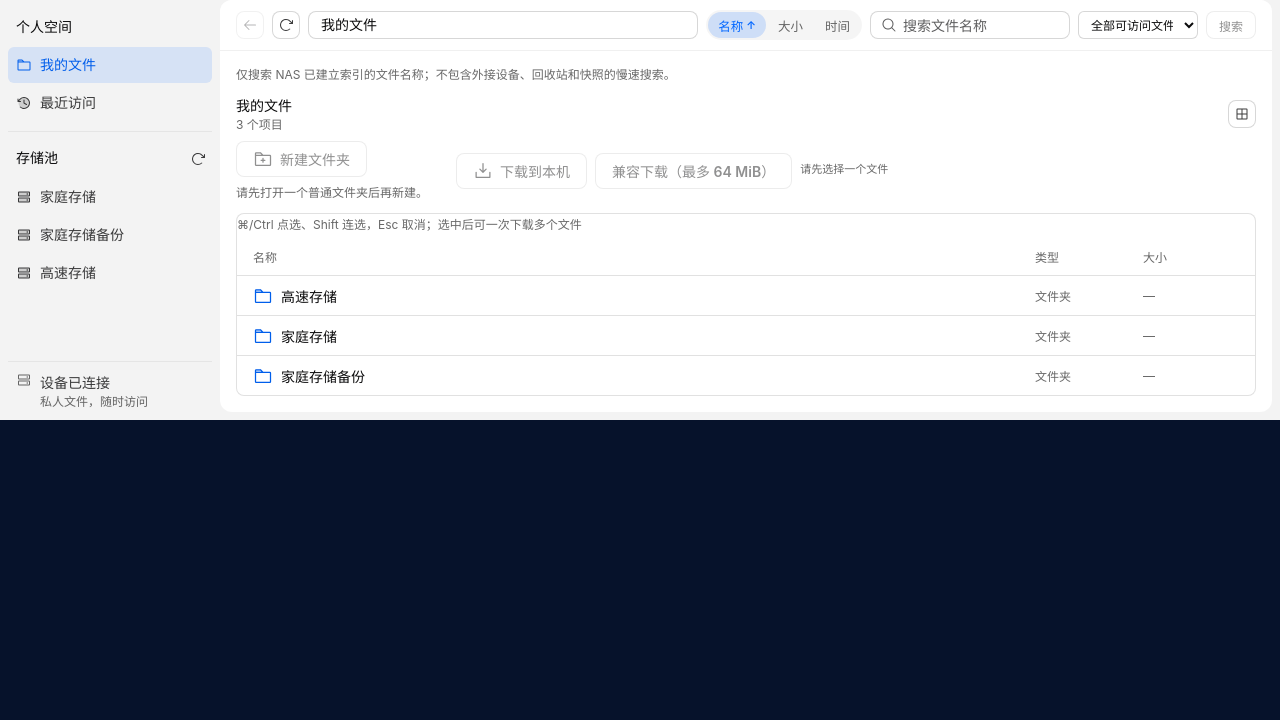
Scenario: switches to the exact returned same-prefix pool path and resets search, page, selection and breadcrumbs
The width and height of the screenshot is (1280, 720).
Click the button with aria-label "打开存储池：家庭存储" at coordinates (110, 197), box [8, 179, 212, 215]
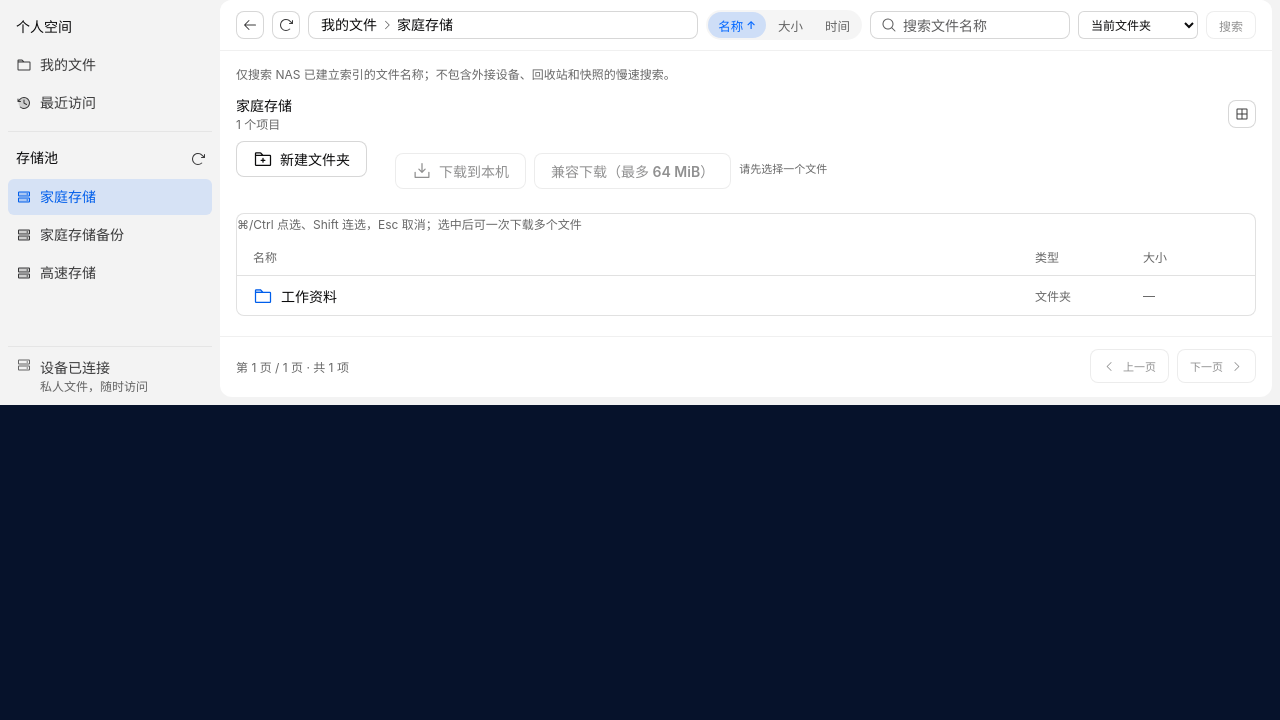
Expected: the button named "工作资料文件夹" is shown, [237, 275, 1255, 315]
Type "报告" into the field labelled "搜索文件名称" at coordinates (981, 25), box [903, 12, 1059, 38]
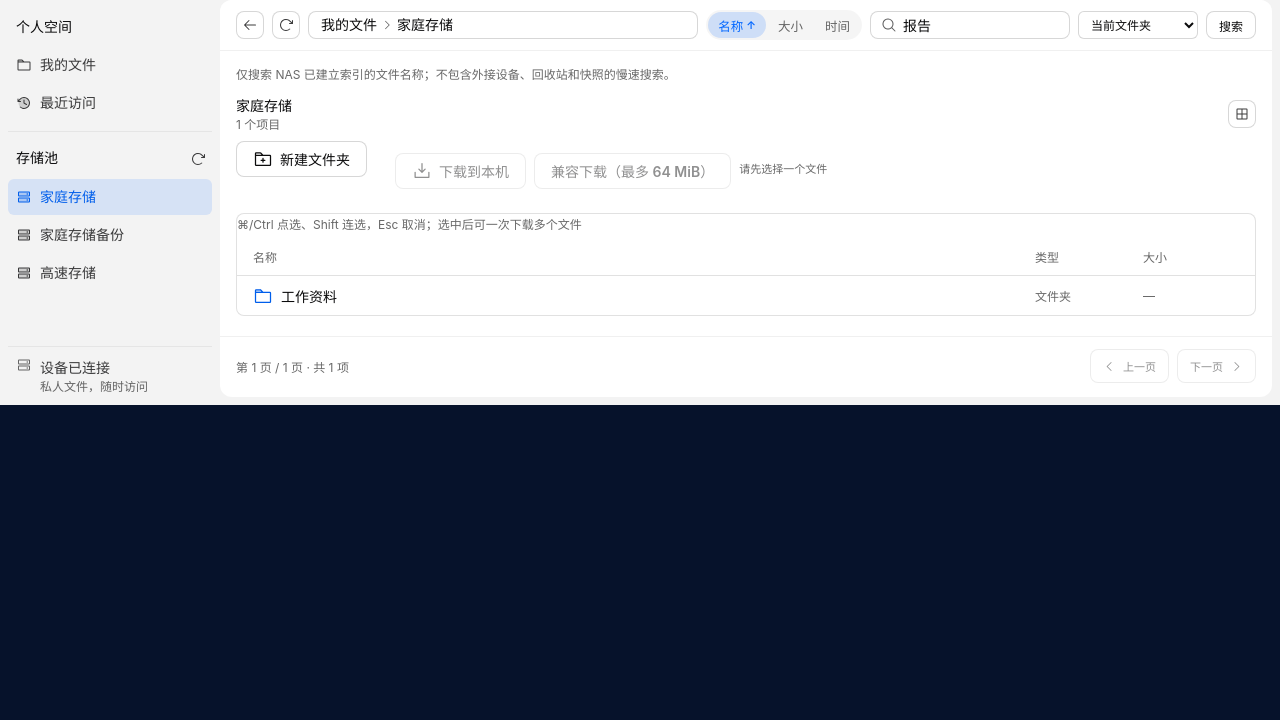
Click the button "搜索" at coordinates (1231, 25), box [1206, 11, 1256, 39]
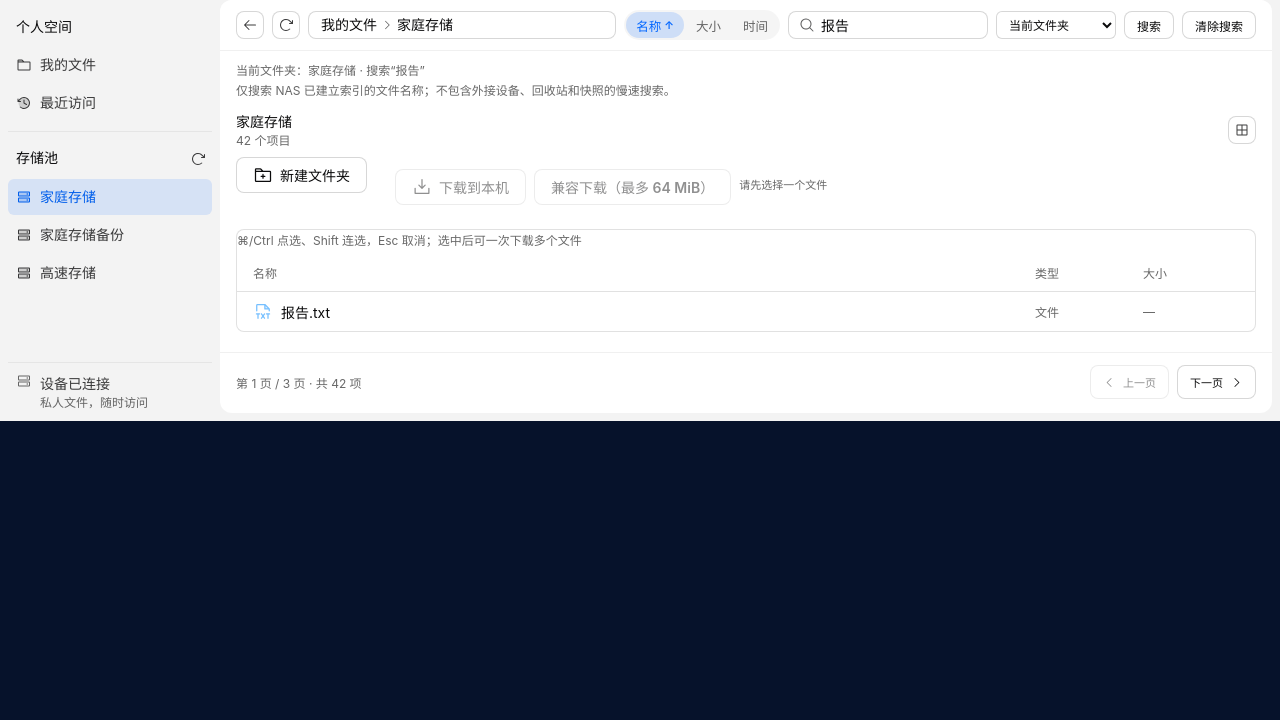
Expected: the button named "报告.txt文件" is shown, [237, 291, 1255, 331]
Click the button "下一页" at coordinates (1216, 382), box [1177, 365, 1256, 399]
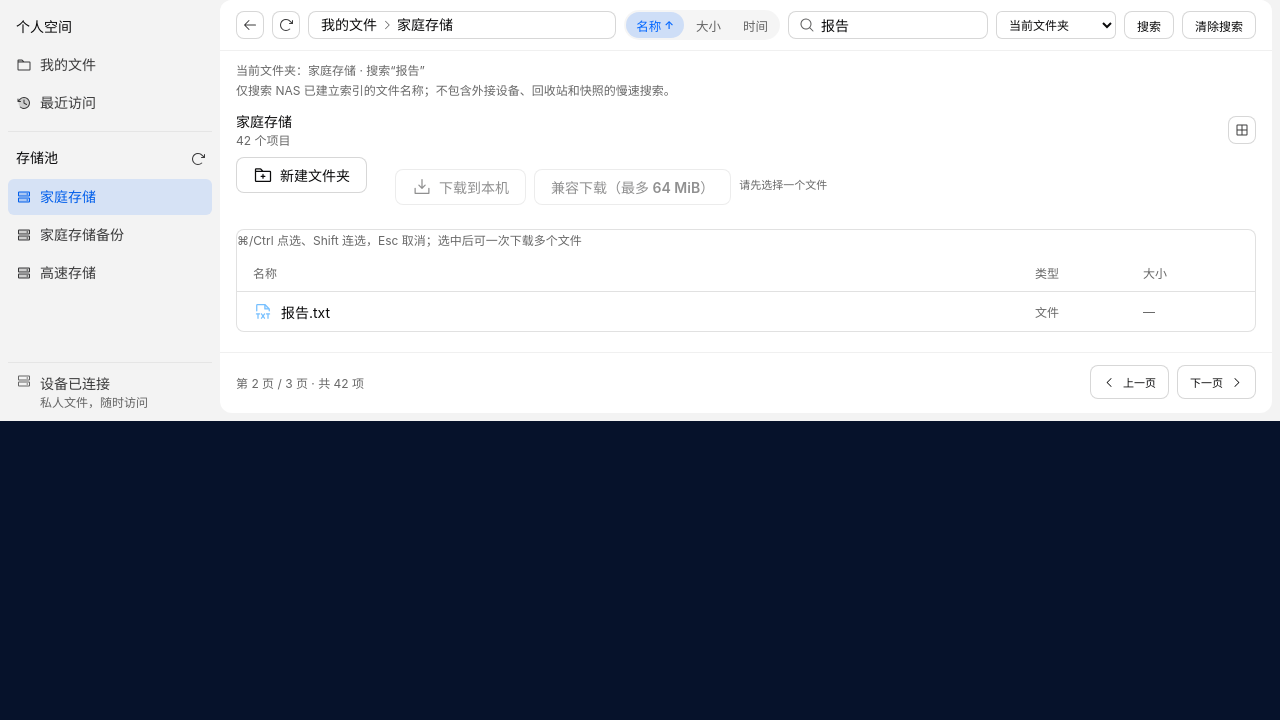
Click the button named "报告.txt文件" at coordinates (306, 312), box [237, 291, 1255, 331]
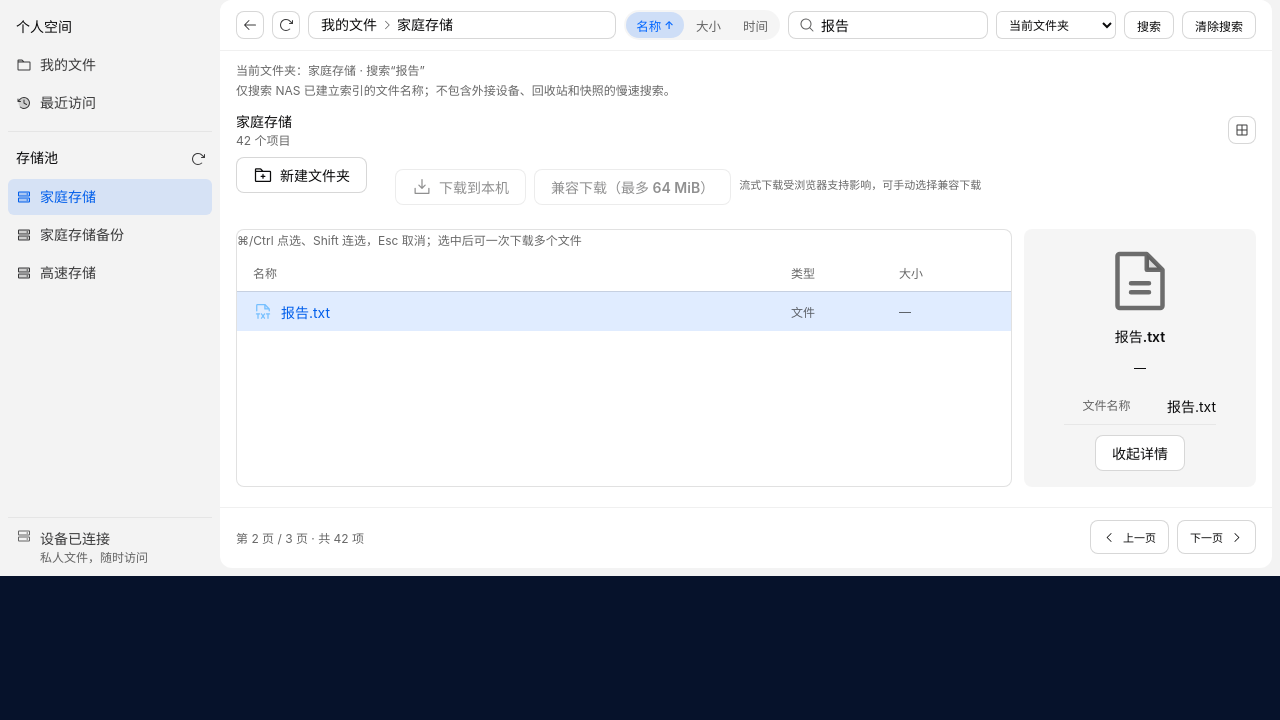
Expected: the button "收起详情" is shown, [1095, 435, 1185, 471]
Click the button "家庭存储备份" at coordinates (110, 235), box [8, 217, 212, 253]
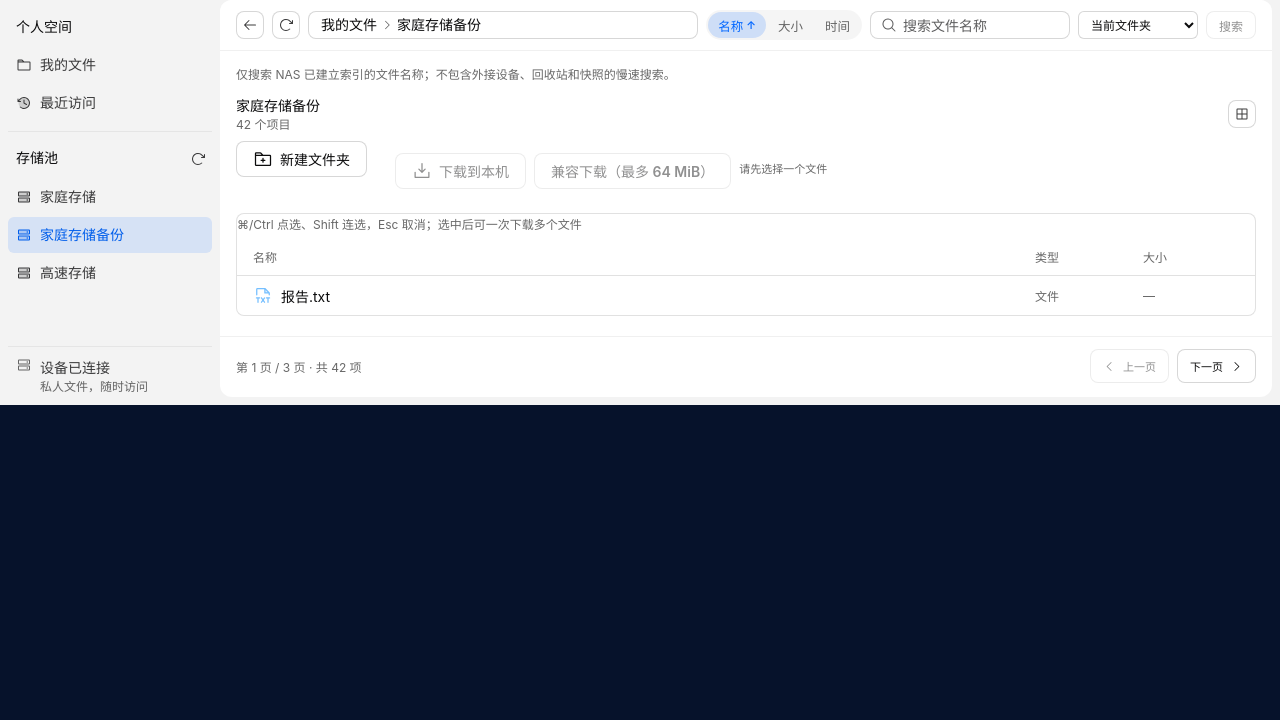
Expected: the field labelled "搜索文件名称" is empty, [903, 12, 1059, 38]
Expected: the button "收起详情" is gone
Expected: the button "清除搜索" is gone
